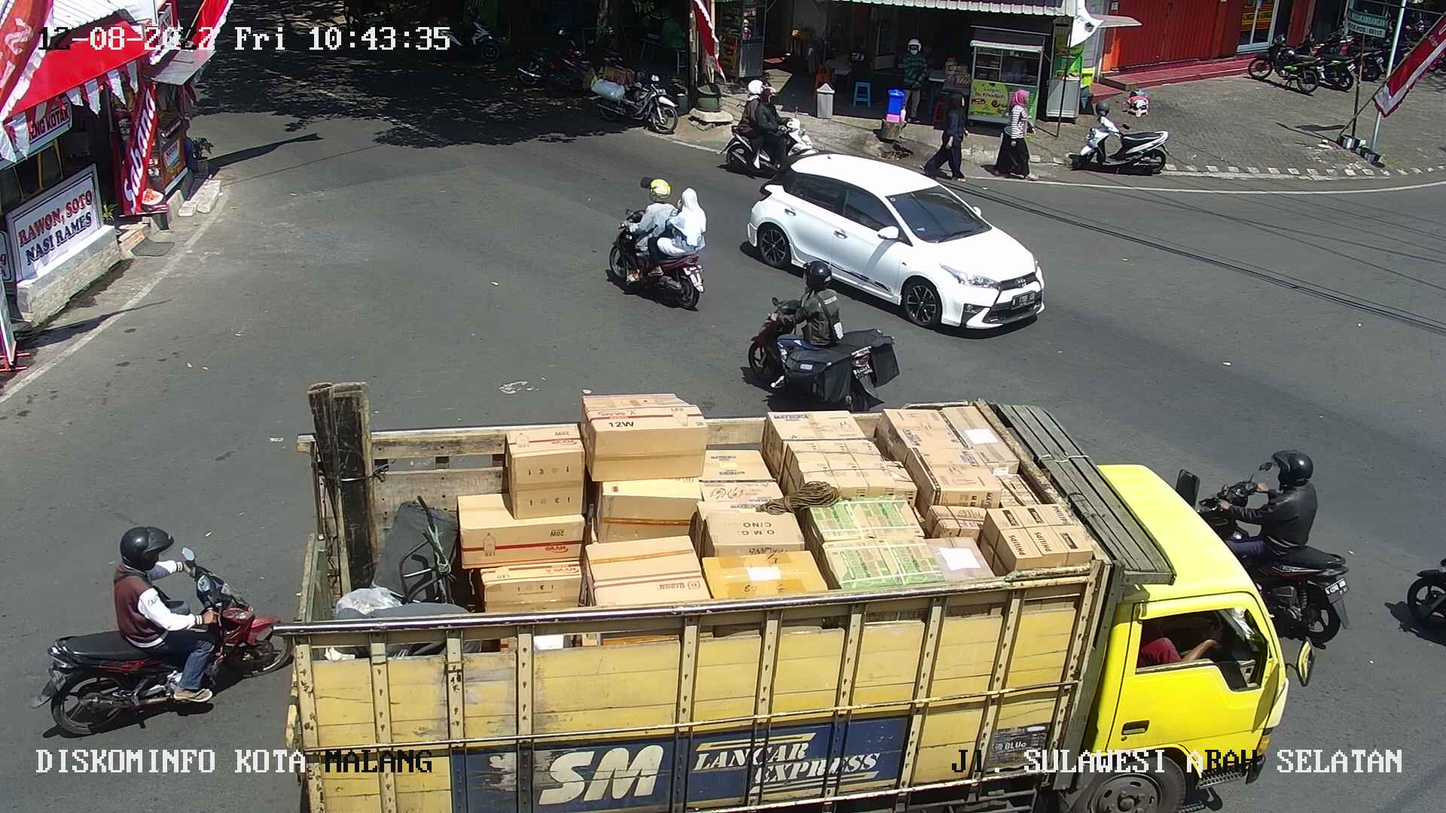with_helmet: (38, 520, 296, 734), (1160, 416, 1351, 650), (731, 253, 900, 418), (603, 168, 671, 297)
